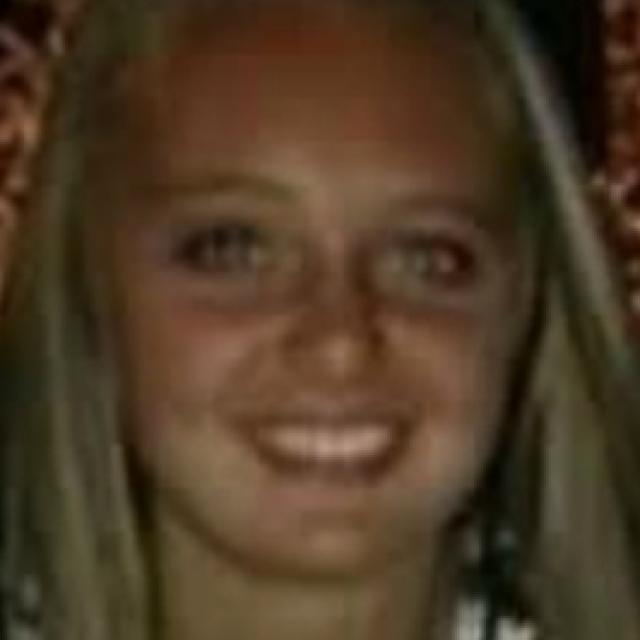Normal: (99, 10, 542, 576)
